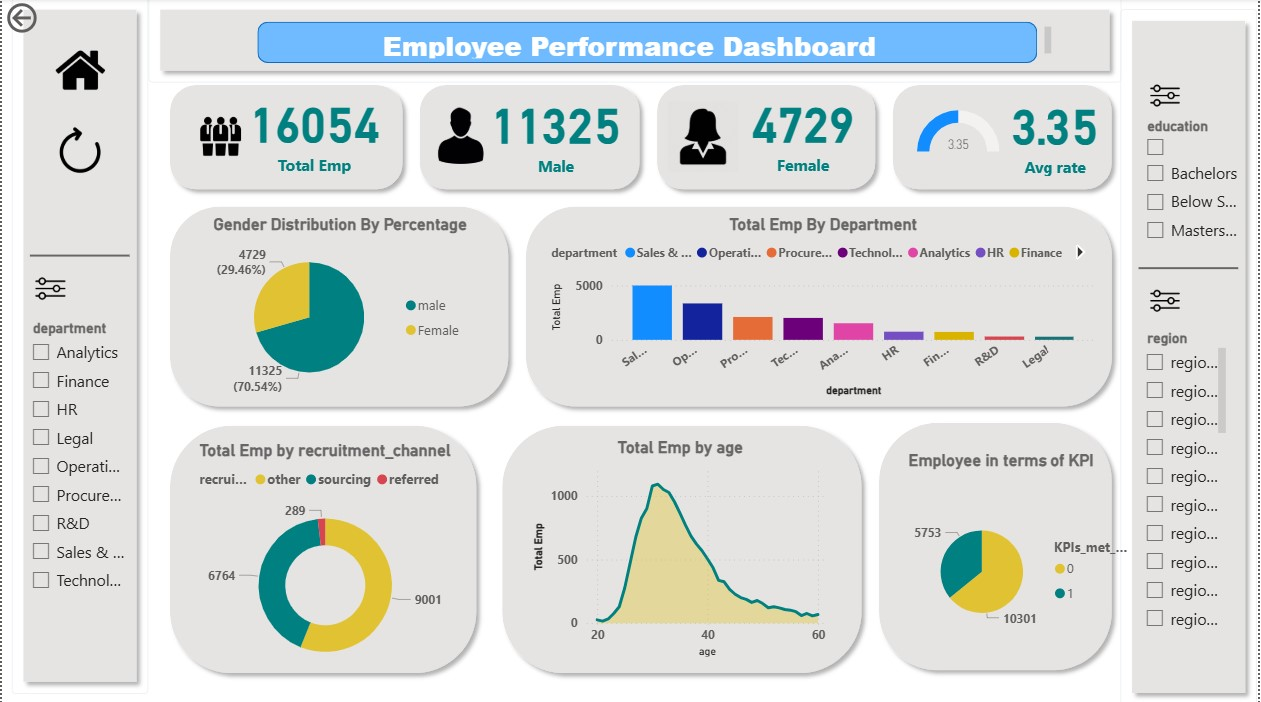

This screenshot's page, from the dashboard's own definition file:
{"tool":"powerbi","page":{"name":"Page 1","canvas":[1280,720],"ordinal":0},"visuals":[{"type":"shape","box":[9.9,0,139,708.4],"z":0},{"type":"shape","box":[1140.4,11.6,139,708.4],"z":1000},{"type":"shape","box":[149,0,991.4,86.1],"z":2000},{"type":"shape","box":[162.2,79.4,254.9,124.1],"z":3000},{"type":"card","fields":{"Values":["Uncleaned_employees_final_dataset (1).Total Emp"]},"box":[234.3,85.7,167.1,98.6],"z":4000},{"type":"shape","box":[417.1,79.4,241.6,124.1],"z":5000},{"type":"shape","box":[898.7,79.4,241.6,124.1],"z":6000},{"type":"shape","box":[658.7,79.4,240,124.1],"z":7000},{"type":"card","fields":{"Values":["Uncleaned_employees_final_dataset (1).male"]},"box":[480,85.7,167.1,100],"z":8000},{"type":"card","fields":{"Values":["Uncleaned_employees_final_dataset (1).female"]},"box":[731.4,85.7,167.1,98.6],"z":9000},{"type":"card","fields":{"Values":["Uncleaned_employees_final_dataset (1).Avg rate"]},"box":[989.7,86.1,167.2,99.3],"z":10000},{"type":"shape","box":[162.2,203.6,362.5,221.8],"z":11000},{"type":"shape","box":[524.7,203.6,615.7,221.8],"z":12000},{"type":"shape","box":[162,426,330,270],"z":13000},{"type":"shape","box":[500,426,384,270],"z":14000},{"type":"pieChart","title":"Gender Distribution By Percentage","fields":{"Y":["Uncleaned_employees_final_dataset (1).male","Uncleaned_employees_final_dataset (1).female"]},"box":[210.2,220.1,269.8,190.3],"z":15000},{"type":"actionButton","box":[0,0,100,40],"z":16000},{"type":"columnChart","title":"Total Emp By Department","fields":{"Y":["Uncleaned_employees_final_dataset (1).Total Emp"],"Category":["Uncleaned_employees_final_dataset (1).department"],"Series":["Uncleaned_employees_final_dataset (1).department"]},"box":[554,220,564,190],"z":17000},{"type":"shape","box":[884,424,256,270],"z":18000},{"type":"donutChart","fields":{"Y":["Uncleaned_employees_final_dataset (1).Total Emp"],"Category":["Uncleaned_employees_final_dataset (1).recruitment_channel"]},"box":[196,450,266,246],"z":19000},{"type":"gauge","fields":{"Y":["Uncleaned_employees_final_dataset (1).Avg rate"]},"box":[926,92,94,86],"z":20000},{"type":"lineChart","fields":{"Y":["Uncleaned_employees_final_dataset (1).Total Emp"],"Category":["Uncleaned_employees_final_dataset (1).age"]},"box":[536,448,310,228],"z":21000},{"type":"pieChart","title":"Employee in terms of KPI","fields":{"Y":["Uncleaned_employees_final_dataset (1).Total Emp"],"Category":["Uncleaned_employees_final_dataset (1).KPIs_met_more_than_80"]},"box":[918,460,240,228],"z":22000},{"type":"slicer","fields":{"Values":["Uncleaned_employees_final_dataset (1).department"]},"box":[18.6,322.9,111.4,354.3],"z":23000},{"type":"image","box":[40,124,80,62],"z":24000},{"type":"image","box":[50,40,60,68],"z":25000},{"type":"image","box":[18.6,271.4,61.4,48.6],"z":26000},{"type":"slicer","fields":{"Values":["Uncleaned_employees_final_dataset (1).education"]},"box":[1154,116,112,216],"z":27000},{"type":"slicer","fields":{"Values":["Uncleaned_employees_final_dataset (1).region"]},"box":[1154,332,98,322],"z":28000},{"type":"image","box":[1154,76,62,48],"z":29000},{"type":"image","box":[86,250,10,48],"z":30000},{"type":"image","box":[1154,284,62,48],"z":31000},{"type":"shape","box":[260,24,794,42],"z":32000},{"type":"shape","box":[1158.6,262.9,101.4,24.3],"z":33000},{"type":"textbox","box":[210,24,864,42],"z":34000},{"type":"shape","box":[28.6,250,101.4,24.3],"z":35000},{"type":"image","box":[672.9,92.9,82.9,97.1],"z":36000},{"type":"image","box":[432.9,105.7,67.1,70],"z":37000},{"type":"image","box":[195.7,115.7,52.9,51.4],"z":38000}]}

Visuals, with their boxes on the page's 1280x720 design canvas (x1, y1, x2, y2). These are canvas units, not pixel positions in the 1261x702 screenshot, which may show the page scaled, cropped or inside an application window:
shape: 10/0/149/708
shape: 1140/12/1279/720
shape: 149/0/1140/86
shape: 162/79/417/204
card - Uncleaned_employees_final_dataset (1).Total Emp: 234/86/401/184
shape: 417/79/659/204
shape: 899/79/1140/204
shape: 659/79/899/204
card - Uncleaned_employees_final_dataset (1).male: 480/86/647/186
card - Uncleaned_employees_final_dataset (1).female: 731/86/898/184
card - Uncleaned_employees_final_dataset (1).Avg rate: 990/86/1157/185
shape: 162/204/525/425
shape: 525/204/1140/425
shape: 162/426/492/696
shape: 500/426/884/696
"Gender Distribution By Percentage" pieChart: 210/220/480/410
actionButton: 0/0/100/40
"Total Emp By Department" columnChart: 554/220/1118/410
shape: 884/424/1140/694
donutChart - Uncleaned_employees_final_dataset (1).Total Emp x Uncleaned_employees_final_dataset (1).recruitment_channel: 196/450/462/696
gauge - Uncleaned_employees_final_dataset (1).Avg rate: 926/92/1020/178
lineChart - Uncleaned_employees_final_dataset (1).Total Emp x Uncleaned_employees_final_dataset (1).age: 536/448/846/676
"Employee in terms of KPI" pieChart: 918/460/1158/688
slicer - Uncleaned_employees_final_dataset (1).department: 19/323/130/677
image: 40/124/120/186
image: 50/40/110/108
image: 19/271/80/320
slicer - Uncleaned_employees_final_dataset (1).education: 1154/116/1266/332
slicer - Uncleaned_employees_final_dataset (1).region: 1154/332/1252/654
image: 1154/76/1216/124
image: 86/250/96/298
image: 1154/284/1216/332
shape: 260/24/1054/66
shape: 1159/263/1260/287
textbox: 210/24/1074/66
shape: 29/250/130/274
image: 673/93/756/190
image: 433/106/500/176
image: 196/116/249/167
